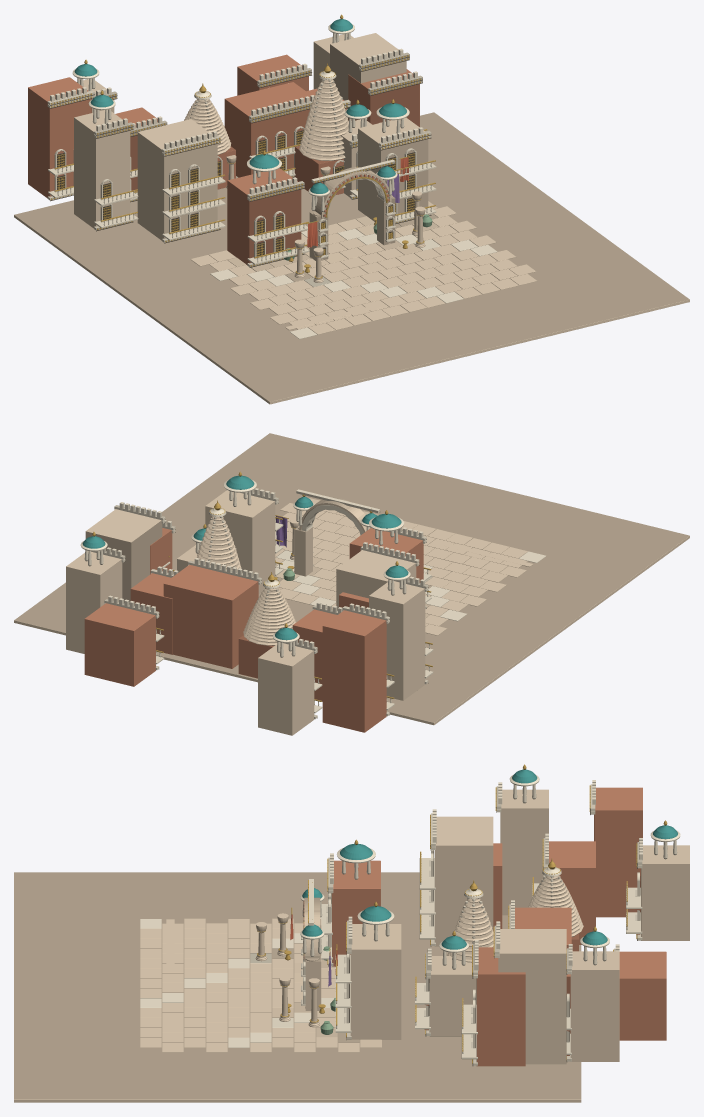
Rendered from kashi.glb.
3 views of the same model, one above another, from view 1: azimuth 30°, elevation 25°; view 2: azimuth 150°, elevation 25°; view 3: azimuth 270°, elevation 25° (orthographic). The views are drawn at different scales.
Visible parts, largest first — view 1: Kashi_Torana_Ghat_Courtyard; view 2: Kashi_Torana_Ghat_Courtyard; view 3: Kashi_Torana_Ghat_Courtyard.
Part boxes in pixels (x1,y1,x2,y2): Kashi_Torana_Ghat_Courtyard: (14, 14, 689, 404); Kashi_Torana_Ghat_Courtyard: (14, 433, 689, 735); Kashi_Torana_Ghat_Courtyard: (14, 764, 689, 1102).
Bounding box in the file's own units: 55 × 17.05 × 69.1.
